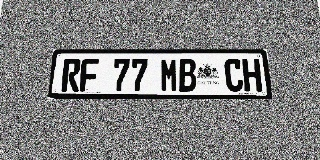7: (111, 59, 130, 92), (130, 59, 148, 92)
B: (178, 59, 197, 92)
C: (224, 59, 244, 92)
F: (79, 59, 99, 92)
H: (242, 59, 262, 92)
M: (161, 59, 178, 92)
R: (61, 59, 81, 92)
